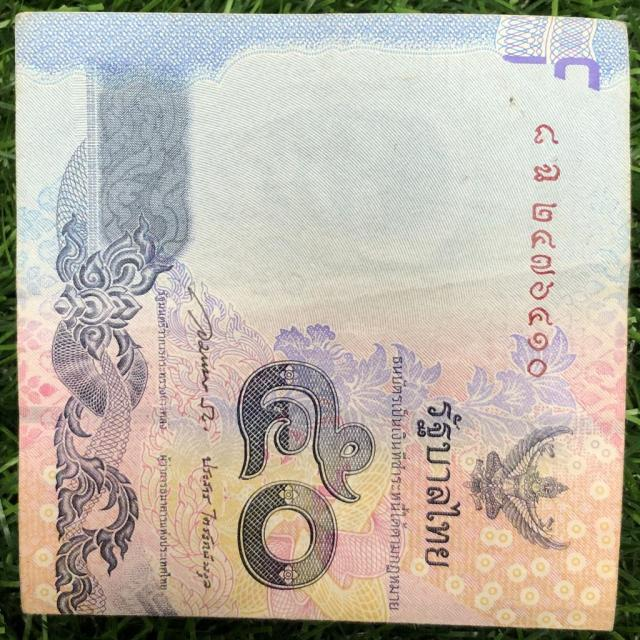THAI50: (16, 12, 630, 629)
